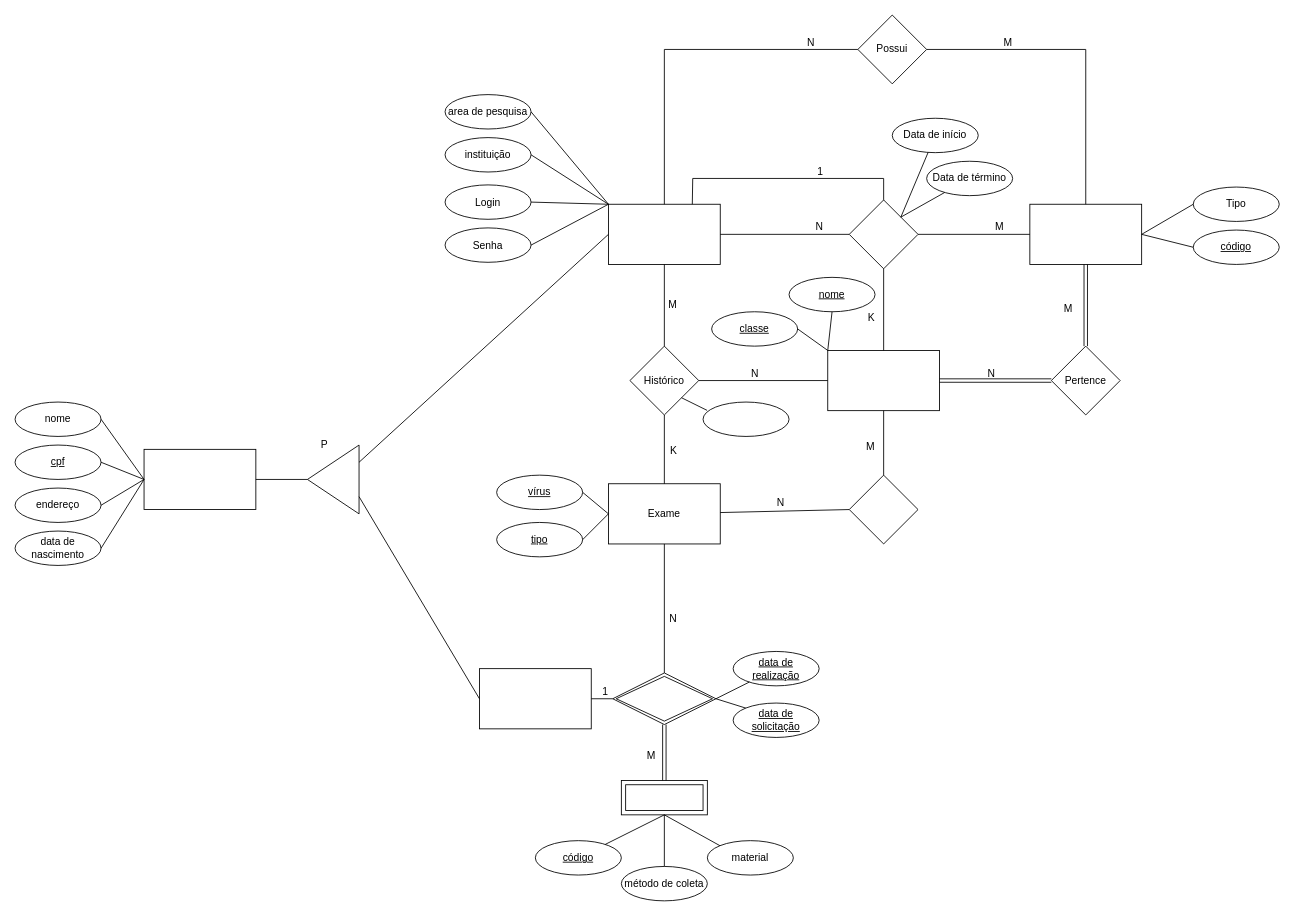
This 1294x916 diagram has some shape labels left out. The shapes that lost their labels are listed below. From the top down, each one's centre as x and y in pixels, then its label:
the point at 664,233: Usuário
the point at 883,234: Tutelamento
the point at 1085,233: Perfil
the point at 883,380: Serviço
the point at 745,418: data de utilização
the point at 199,479: Pessoa
the point at 883,509: Gerencia
the point at 535,698: Paciente
the point at 664,698: Realiza
the point at 663,797: Amostra
